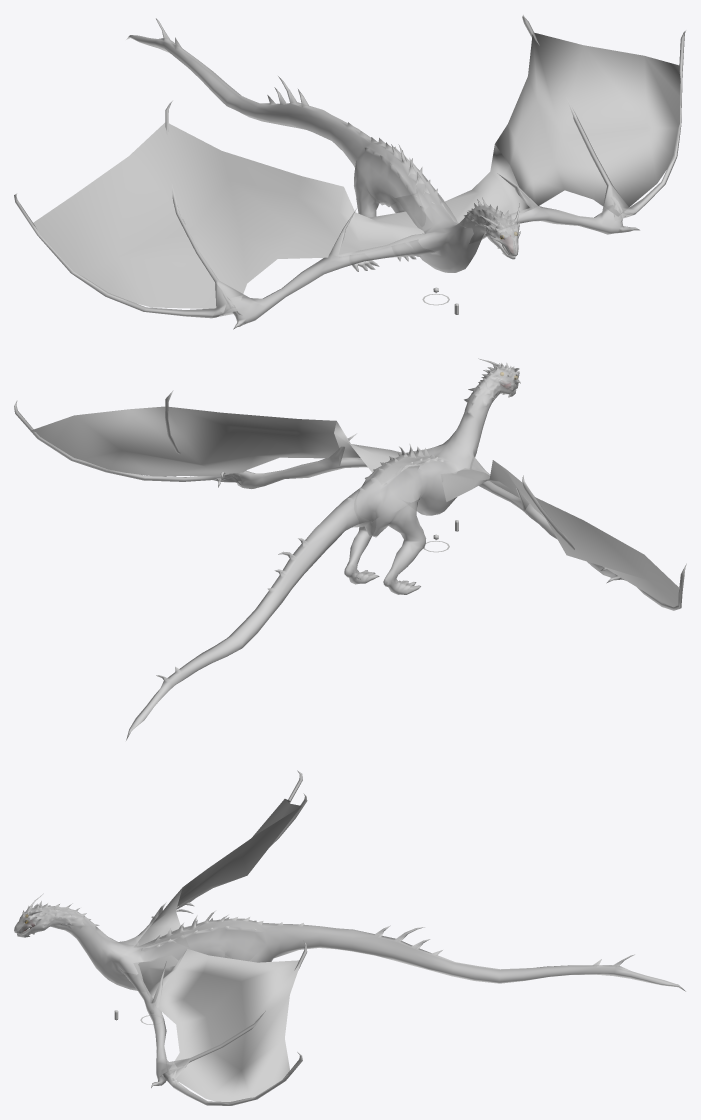
File: smaug.obj
3 renders of one model, top to bottom at view 1: azimuth 30°, elevation 25°; view 2: azimuth 150°, elevation 25°; view 3: azimuth 270°, elevation 25°, orthographic. The views are drawn at different scales.
Parts seen in each view (by area): view 1: smaug_Cube; view 2: smaug_Cube; view 3: smaug_Cube.
Part boxes in pixels (x1,y1,x2,y2): smaug_Cube: [14, 14, 686, 329]; smaug_Cube: [14, 358, 686, 740]; smaug_Cube: [14, 770, 685, 1105].
Size of the model in its own units: 112 by 28.53 by 113.
